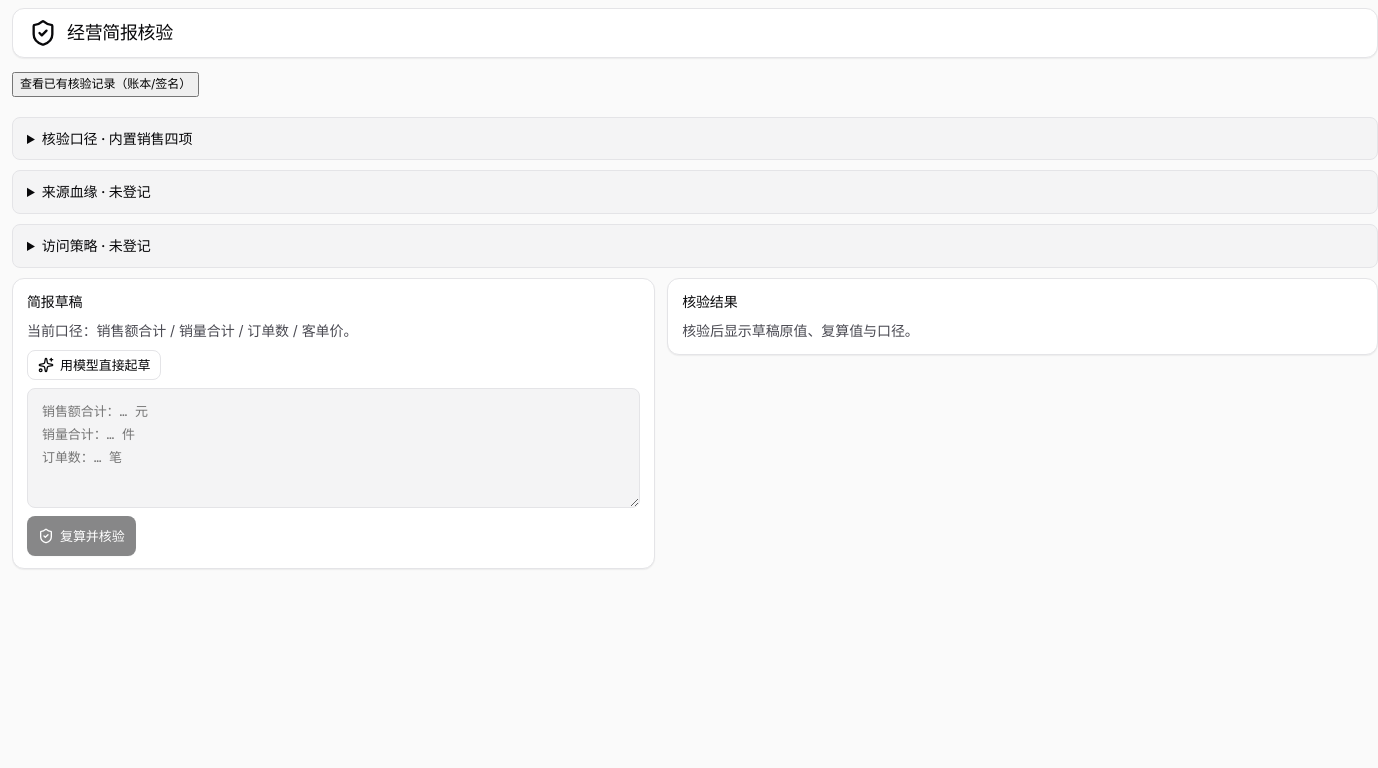
Scenario: SalesAudit › 展示数据告警并明确订单数口径未改
Step 1. Type "订单数：1 笔" into the text box labelled "简报草稿" → (334, 448), box top-left (27, 388), bottom-right (640, 508)
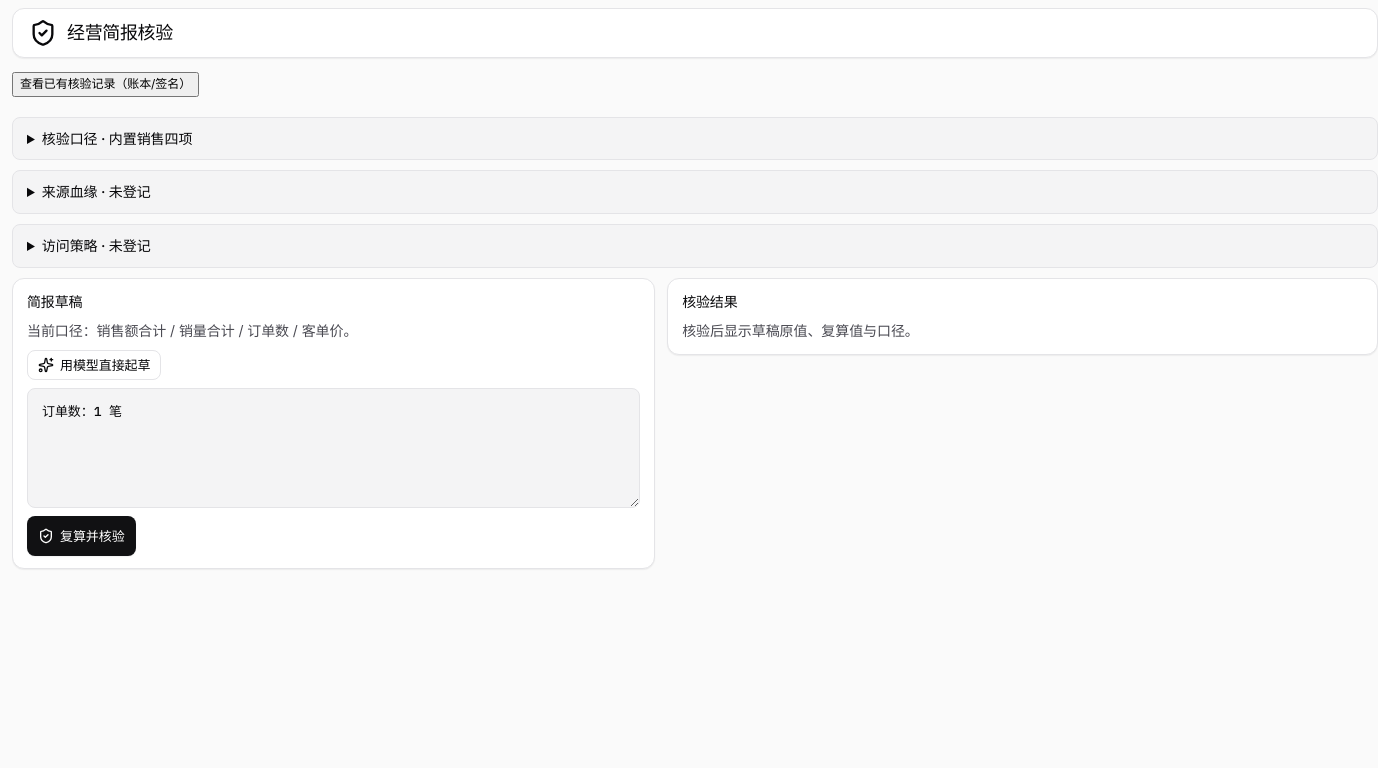
Step 2. Click the button "复算并核验" → (81, 536), box top-left (27, 516), bottom-right (136, 556)
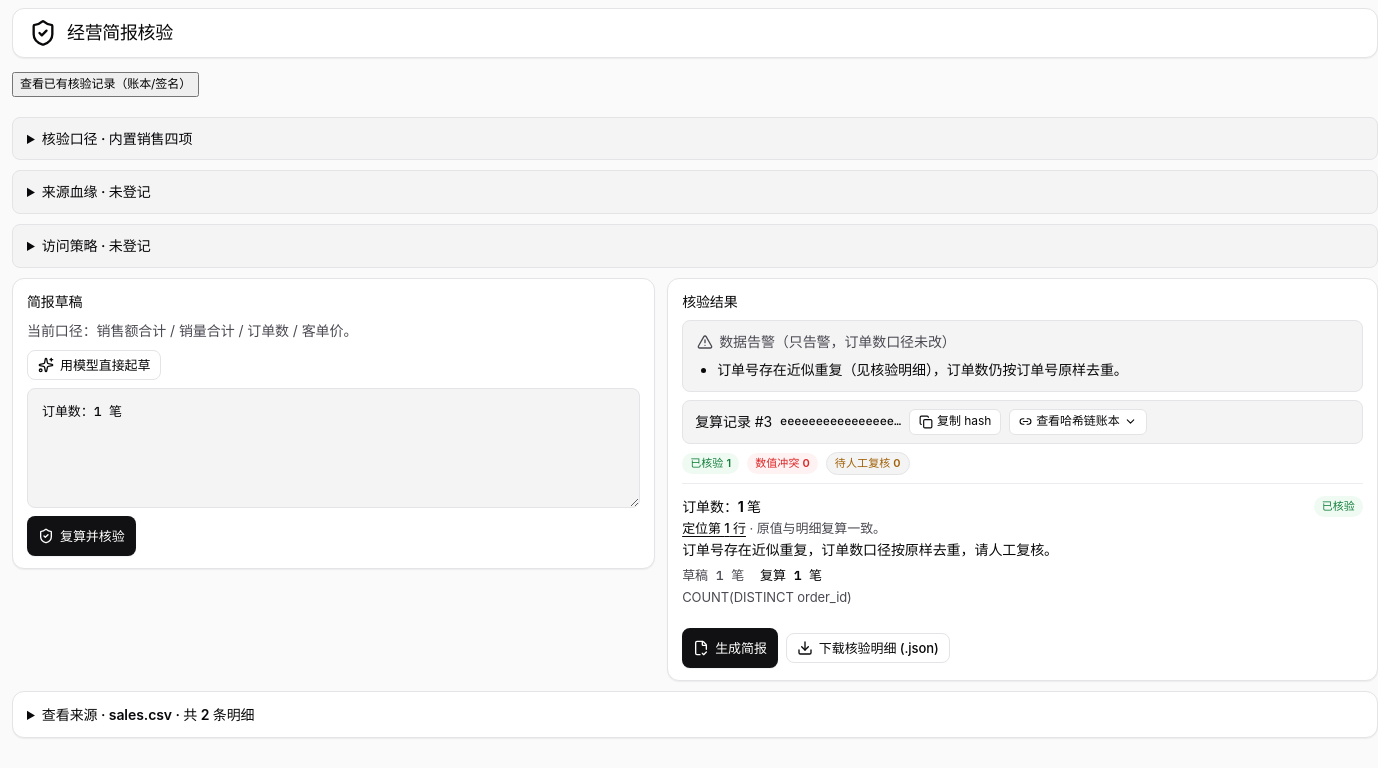
expect the text "数据告警（只告警，订单数口径未改）" is shown: met, box top-left (719, 331), bottom-right (956, 353)
expect the list item "订单号存在近似重复（见核验明细），订单数仍按订单号原样去重。" is shown: met, box top-left (717, 361), bottom-right (1128, 378)
expect the text "订单号存在近似重复，订单数口径按原样去重，请人工复核。" is shown: met, box top-left (682, 541), bottom-right (1058, 558)
